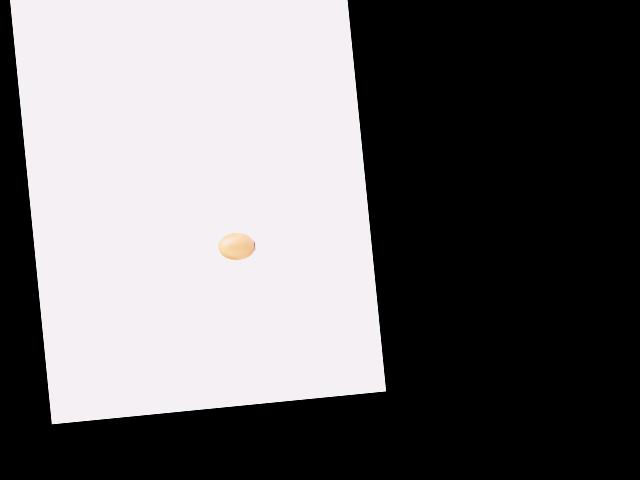egg: (217, 231, 256, 261)
